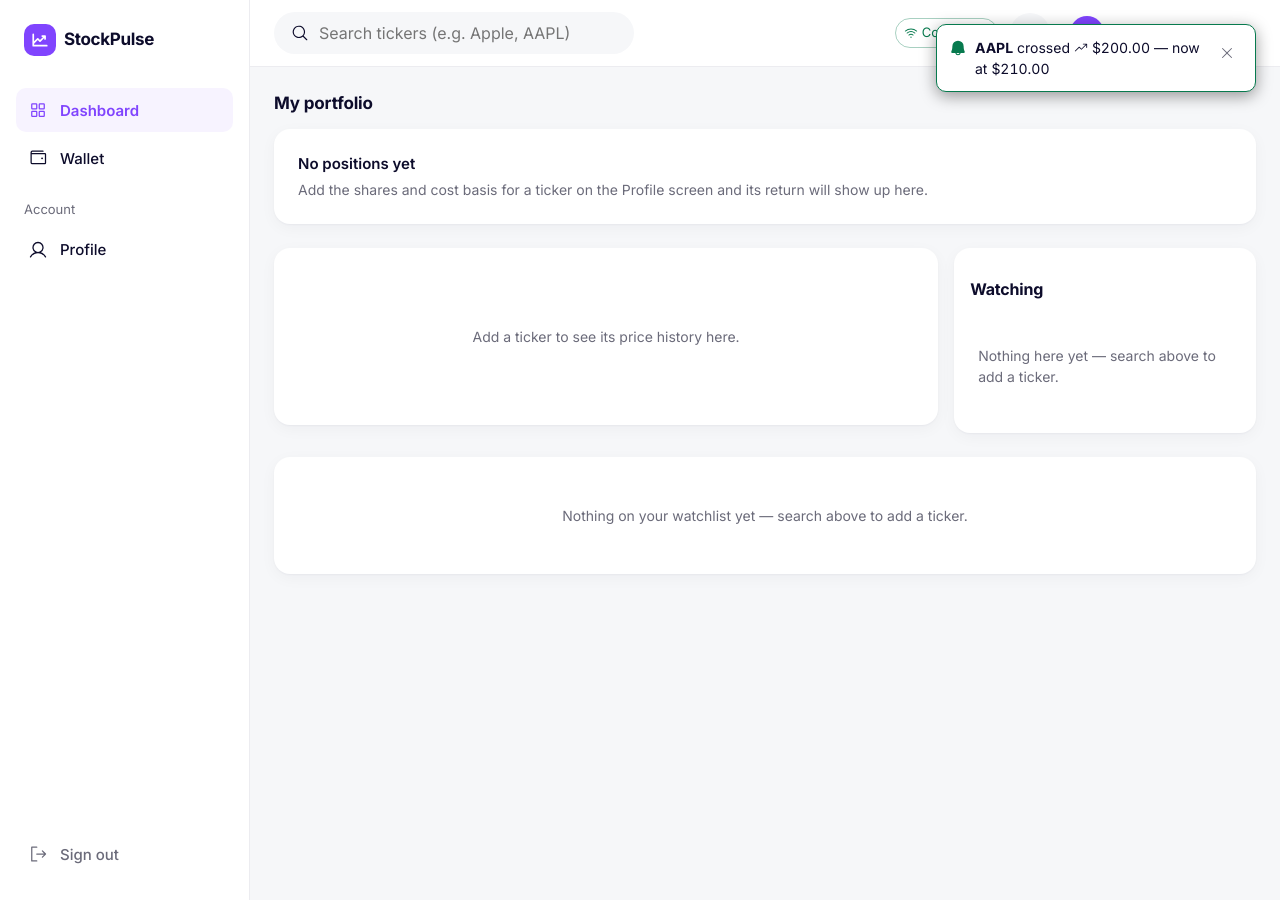
Test: App — receiving fired alerts › dismisses the toast when its dismiss button is clicked
Check: the message "AAPL crossed $200.00 — now at $210.00" is shown, box x1=936 y1=24 x2=1256 y2=92
Click the button named "Dismiss AAPL alert".
click(1227, 53)  # box x1=1211 y1=37 x2=1243 y2=69
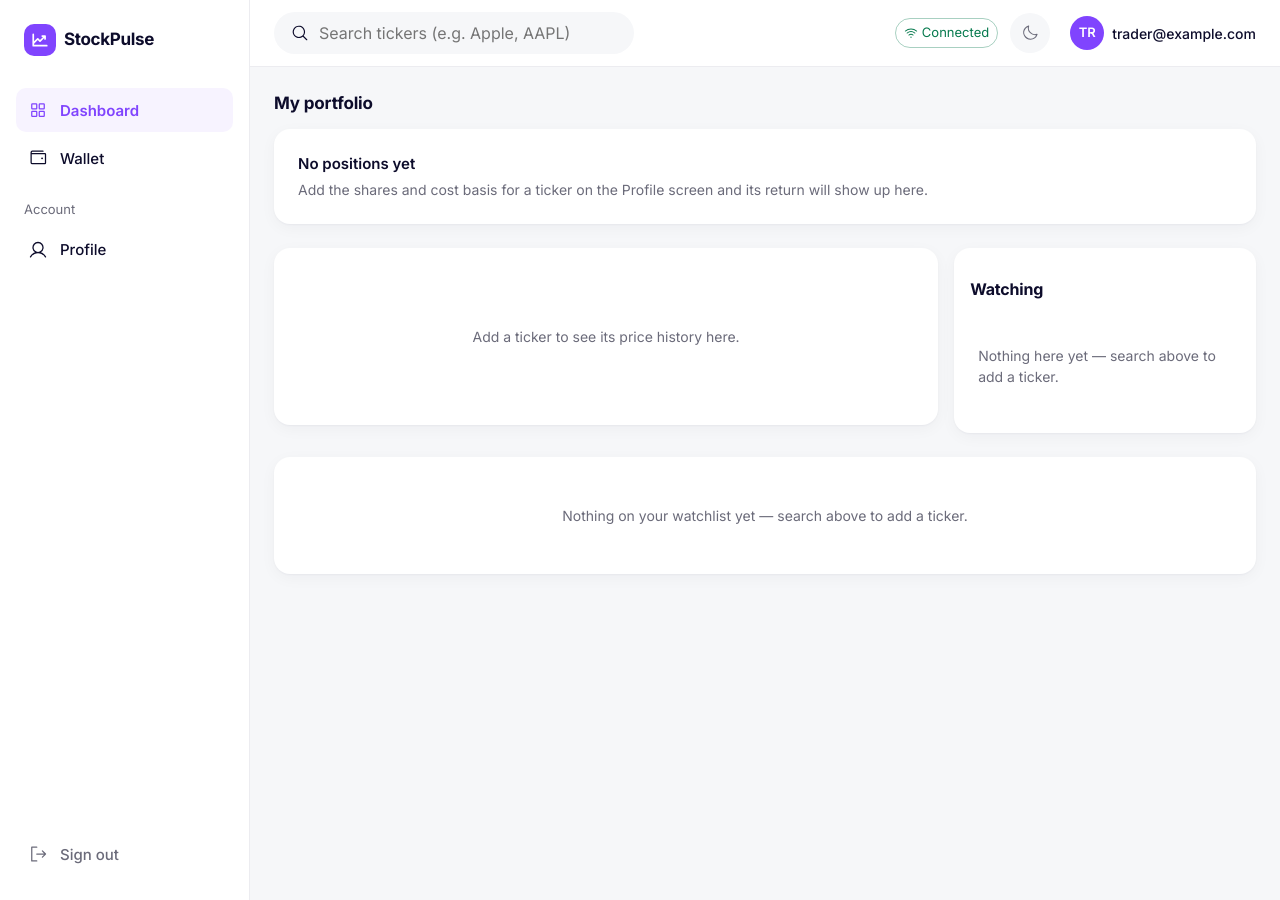
Check: the message "AAPL crossed $200.00 — now at $210.00" is gone
